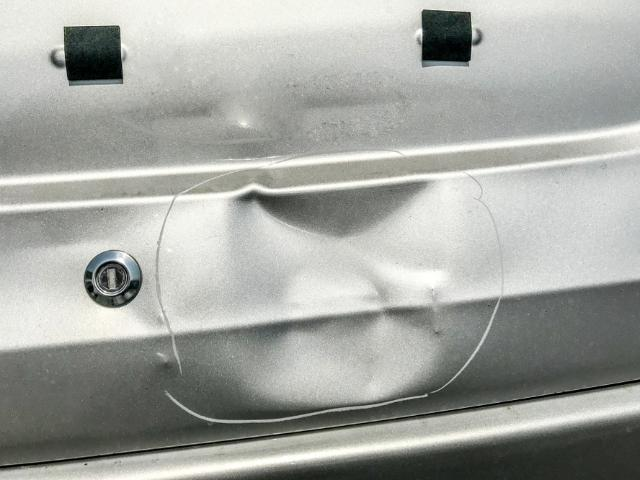Door: (144, 172, 548, 460)
